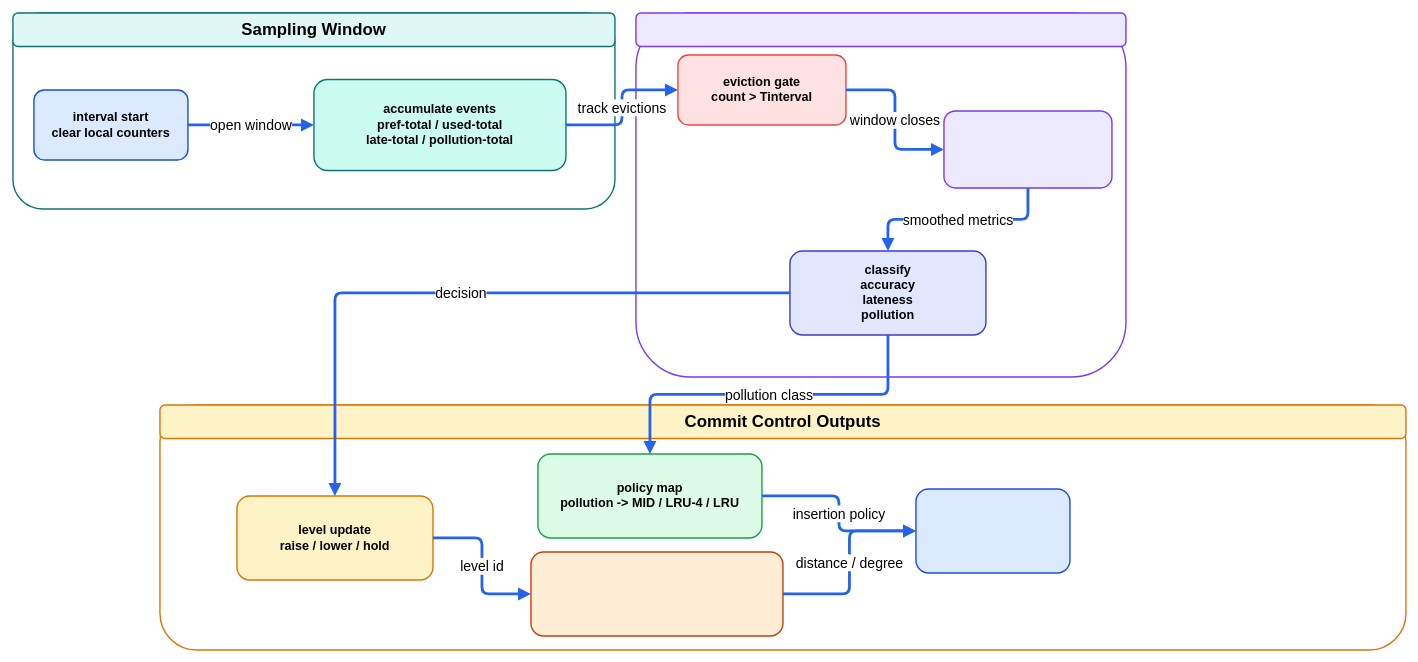
Some shapes in this 1418 by 662 pixel diagram are drawn without their labels. Here are the shapes that lost their labels. From the top down, the centre of each, then its label:
the point at 880,29: Close Window / Classify
the point at 1027,149: smooth metrics 1/2 old + 1/2 now
the point at 992,530: apply next interval knobs
the point at 656,593: config table level -> distance / degree
